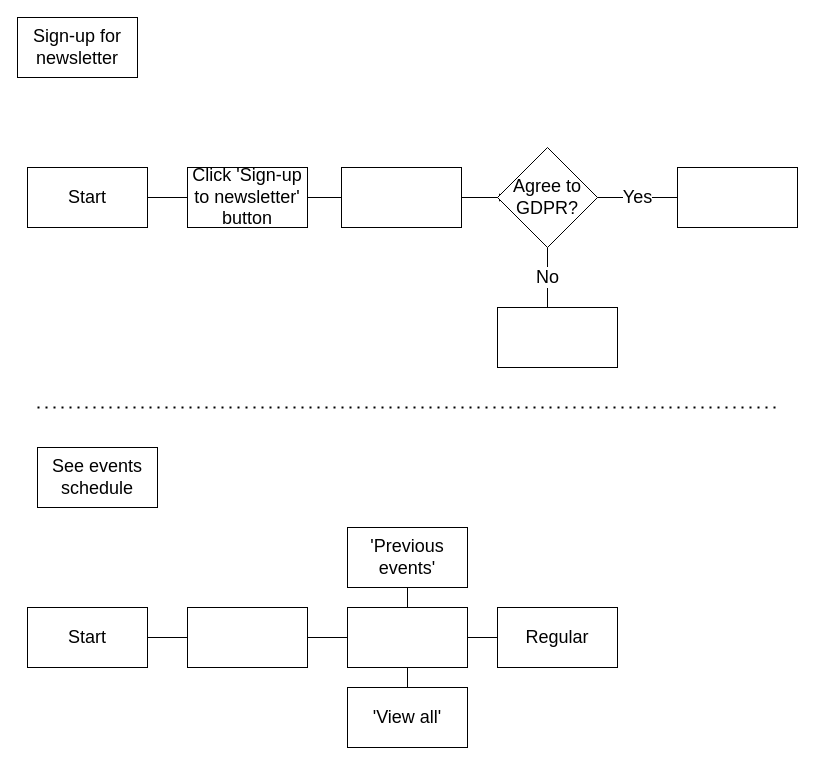
This 815x765 diagram has some shape labels left out. Each missing label, with the box of its shape:
Click on 'Events' in navigation bar: (186, 606, 308, 668)
Drop down options: (346, 606, 468, 668)
Email added to database: (676, 166, 798, 228)
Enter email address in field: (340, 166, 462, 228)
Exit: (496, 306, 618, 368)
